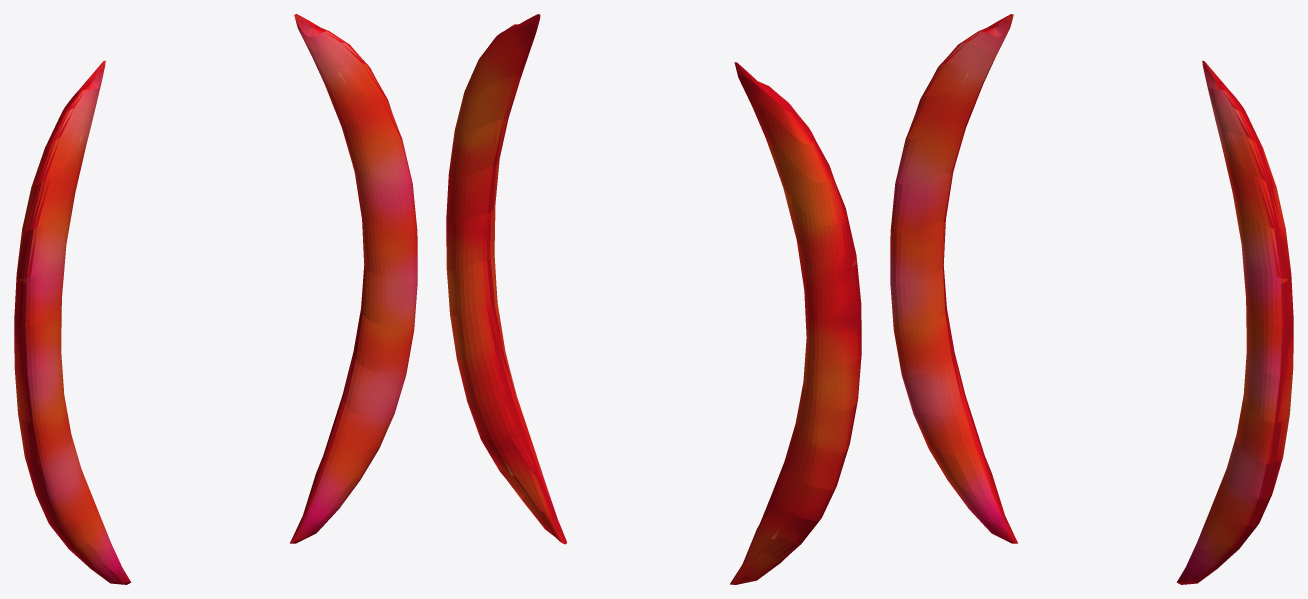
Rendered from FireGuyWeapon.fbx.
3 renders of one model, left to right at view 1: azimuth 30°, elevation 25°; view 2: azimuth 150°, elevation 25°; view 3: azimuth 330°, elevation 25°, orthographic. The views are drawn at different scales.
Parts seen in each view (by area): view 1: Sphere; view 2: Sphere; view 3: Sphere.
Part boxes in pixels (bbox=[...]): Sphere: bbox=[14, 14, 417, 584]; Sphere: bbox=[446, 14, 861, 584]; Sphere: bbox=[890, 14, 1293, 584].
Size of the model in its own units: 708 by 888 by 82.79.
